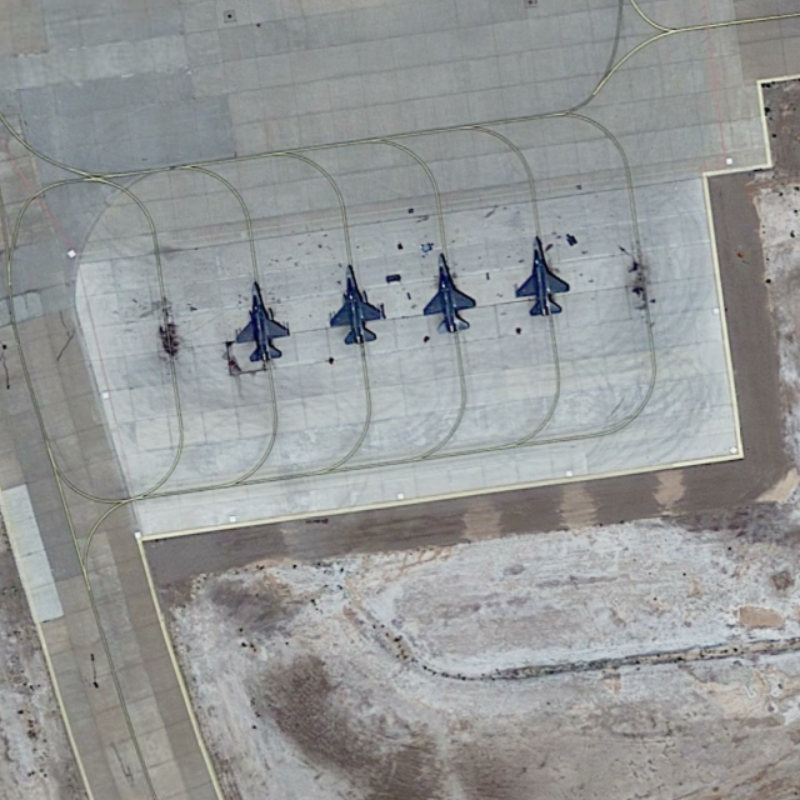A5: (415, 245, 491, 338), (505, 228, 579, 323), (226, 276, 298, 371), (326, 256, 391, 353)
